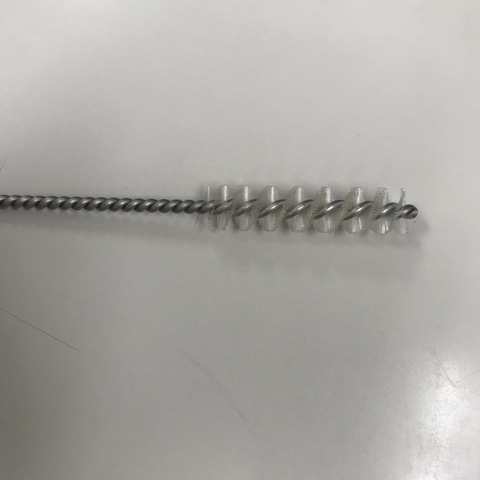Twist Brush-B: (1, 186, 421, 233)
